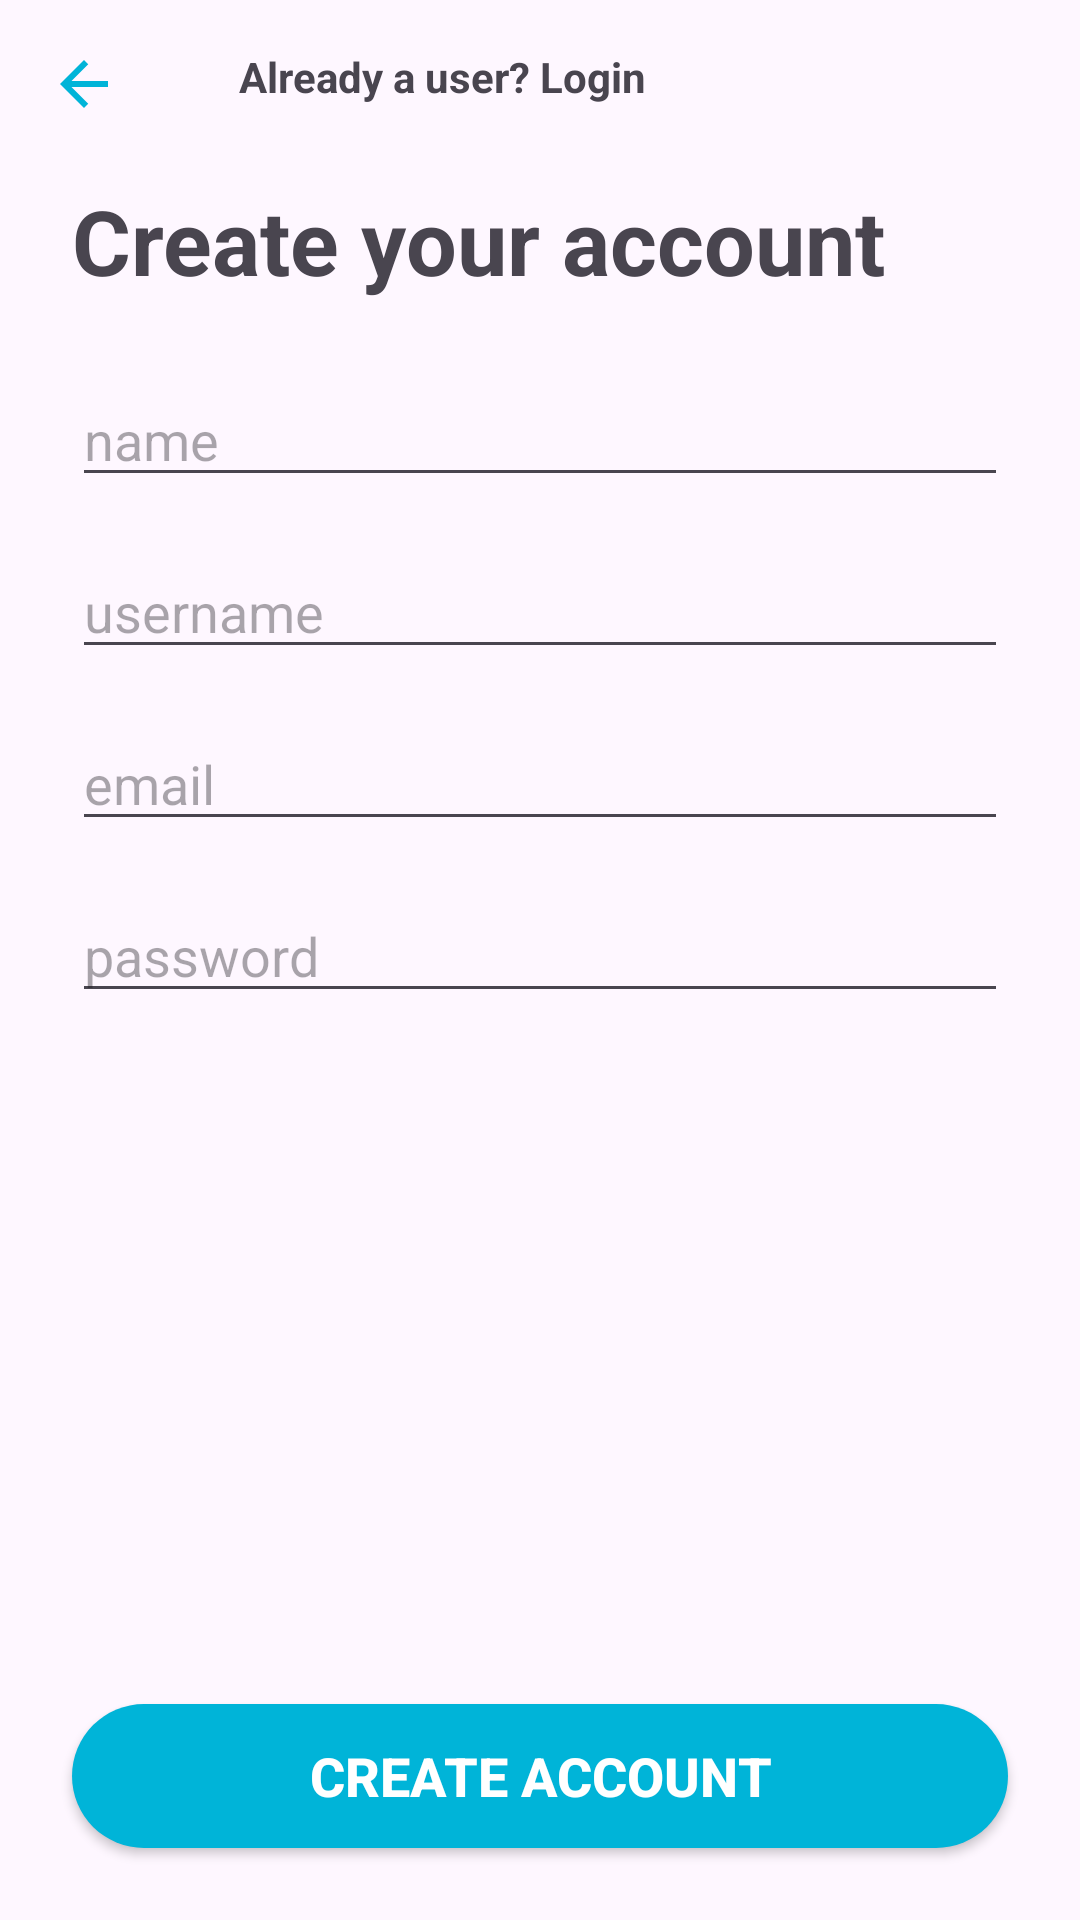

Icon click points for this 1080*1920 phone screenshot, format (x=x, y=y):
arrow: (x=84, y=84)
